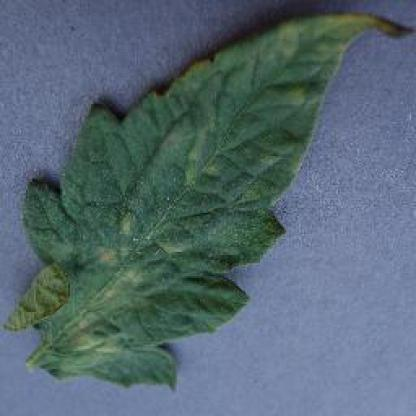bad leaf: (5, 4, 414, 384)
